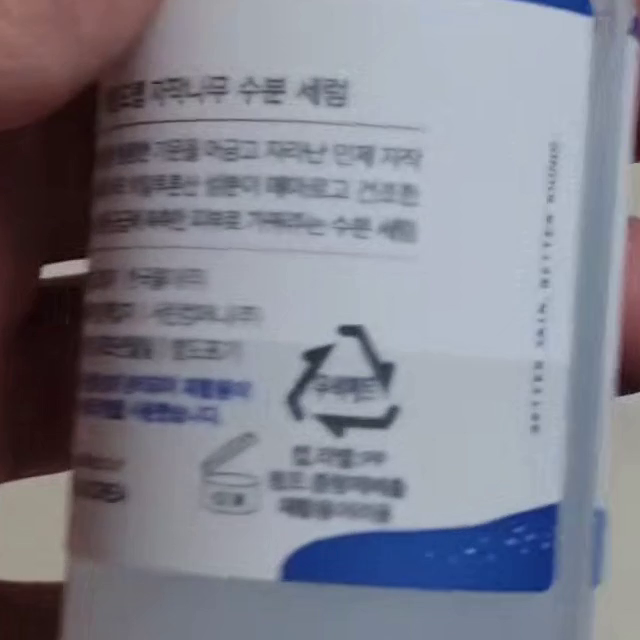ColorlessPet: (284, 324, 402, 440)
